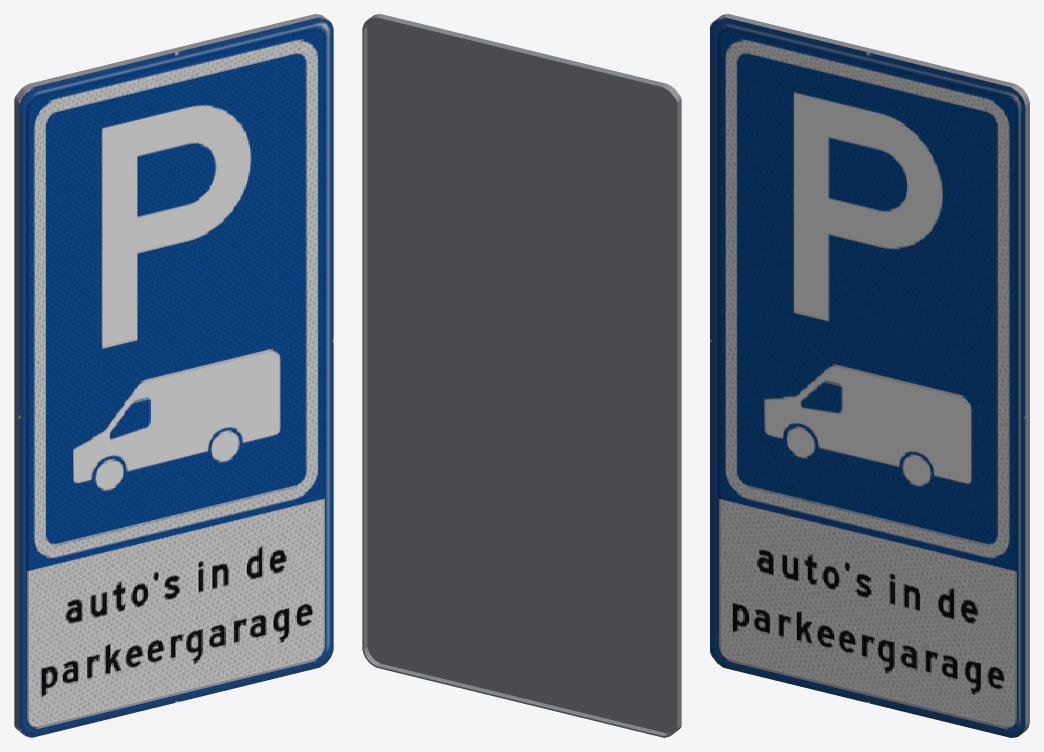
3 renders of one model, left to right at view 1: azimuth 30°, elevation 25°; view 2: azimuth 150°, elevation 25°; view 3: azimuth 330°, elevation 25°, orthographic.
Visible parts, largest first — view 1: cat_da7b9def1f62607d; view 2: cat_da7b9def1f62607d; view 3: cat_da7b9def1f62607d.
Boxes of the visible parts, box(x1,y1,x2,y2) form: cat_da7b9def1f62607d: box(14, 14, 333, 737); cat_da7b9def1f62607d: box(362, 14, 681, 737); cat_da7b9def1f62607d: box(710, 14, 1029, 737).
Bounding box in the file's own units: 0.6 × 0.015 × 1.18.
2 materials, 1 textured.
